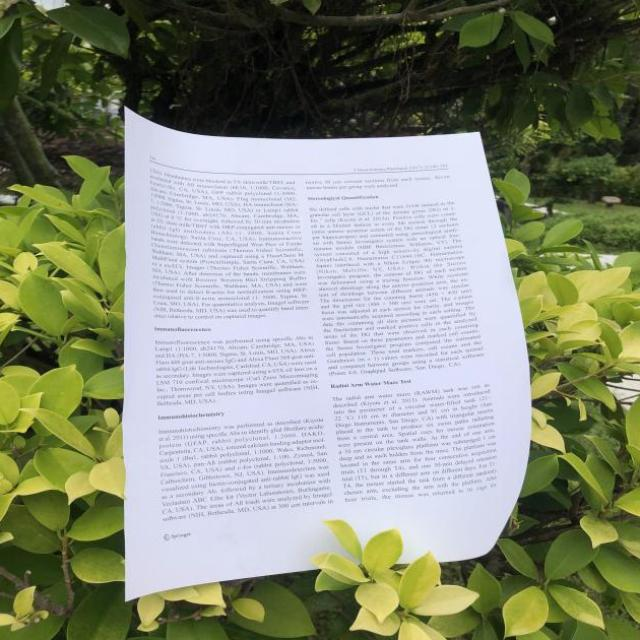kertas: (123, 110, 531, 599)
